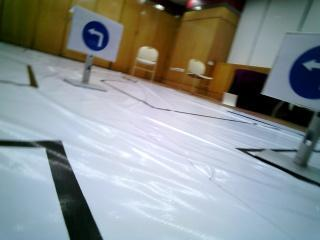left: (73, 14, 119, 55)
